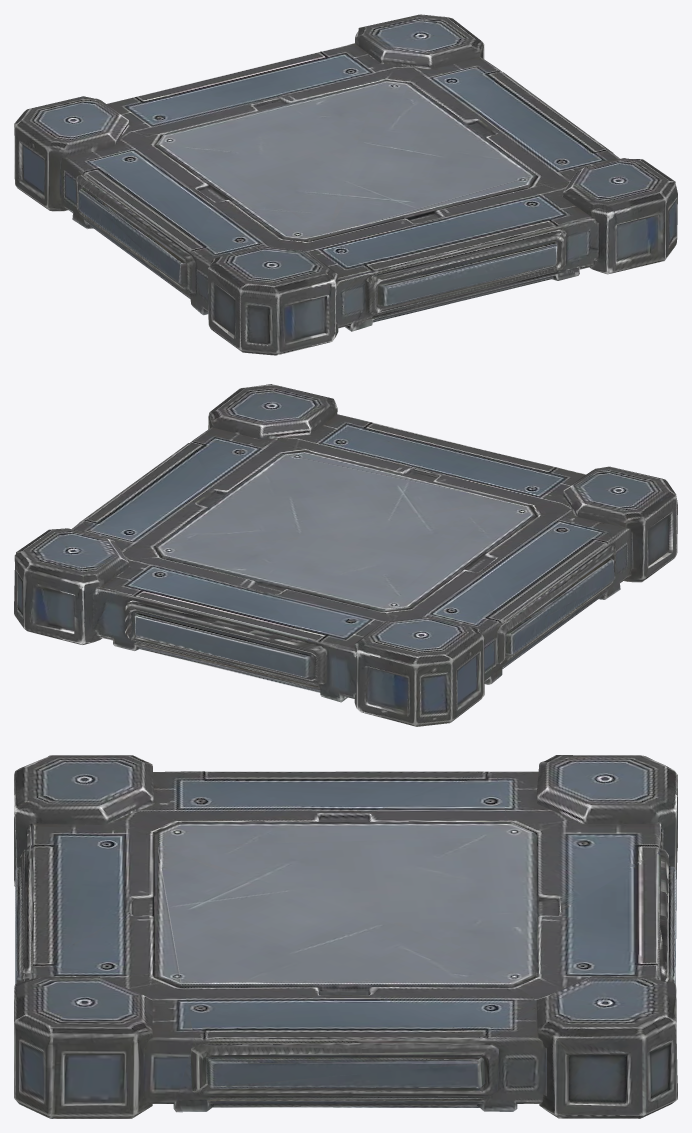
File: floor_0.glb
3 views of the same model, one above another, from view 1: azimuth 30°, elevation 25°; view 2: azimuth 150°, elevation 25°; view 3: azimuth 270°, elevation 25° (orthographic). The views are drawn at different scales.
Parts seen in each view (by area): view 1: mesh_node; view 2: mesh_node; view 3: mesh_node.
Boxes of the visible parts, box(x1,y1,x2,y2) form: mesh_node: box(14, 14, 677, 355); mesh_node: box(14, 384, 677, 726); mesh_node: box(14, 755, 677, 1118).
Bounding box in the file's own units: 1 × 0.1499 × 1.
Materials: 1 (1 with a texture image).
